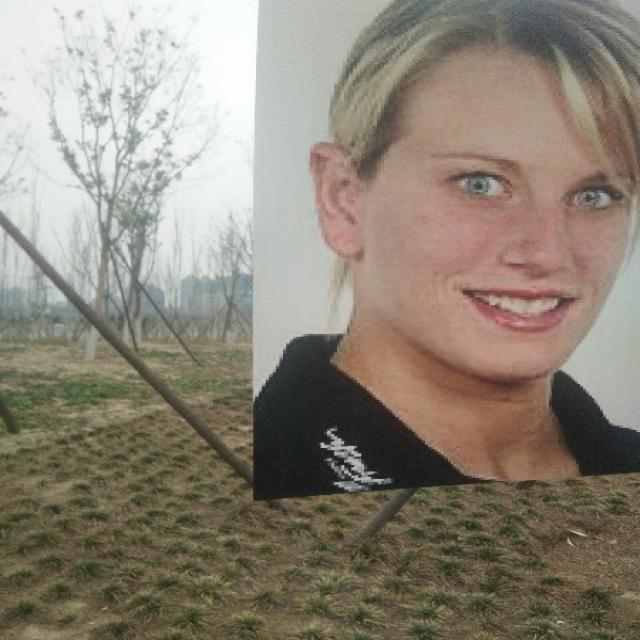photo: (242, 0, 640, 506)
